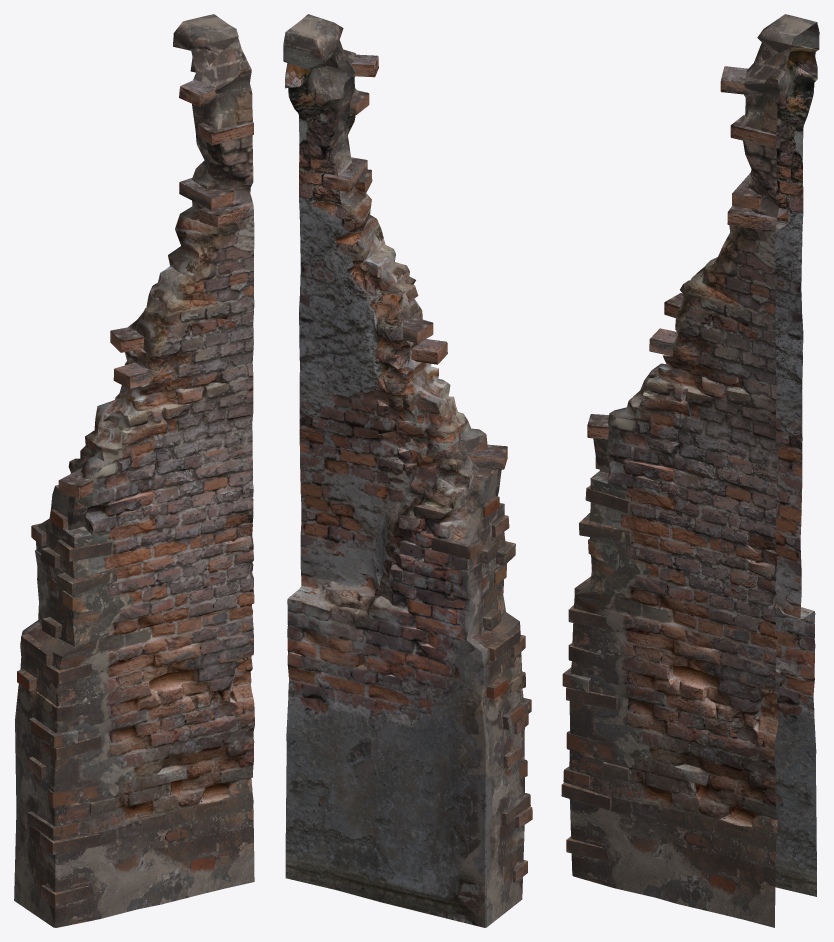
File: SM_ChapelWall_01_09.fbx
3 views of the same model, side by side, from view 1: azimuth 30°, elevation 25°; view 2: azimuth 150°, elevation 25°; view 3: azimuth 330°, elevation 25° (orthographic). The views are drawn at different scales.
Parts seen in each view (by area): view 1: sm_ChapelWall_01_09_LOD0; view 2: sm_ChapelWall_01_09_LOD0; view 3: sm_ChapelWall_01_09_LOD0.
Part boxes in pixels (bbox=[...]): sm_ChapelWall_01_09_LOD0: bbox=[14, 14, 254, 927]; sm_ChapelWall_01_09_LOD0: bbox=[283, 14, 532, 927]; sm_ChapelWall_01_09_LOD0: bbox=[561, 14, 819, 927].
Bounding box in the file's own units: 56.04 × 139 × 545.
